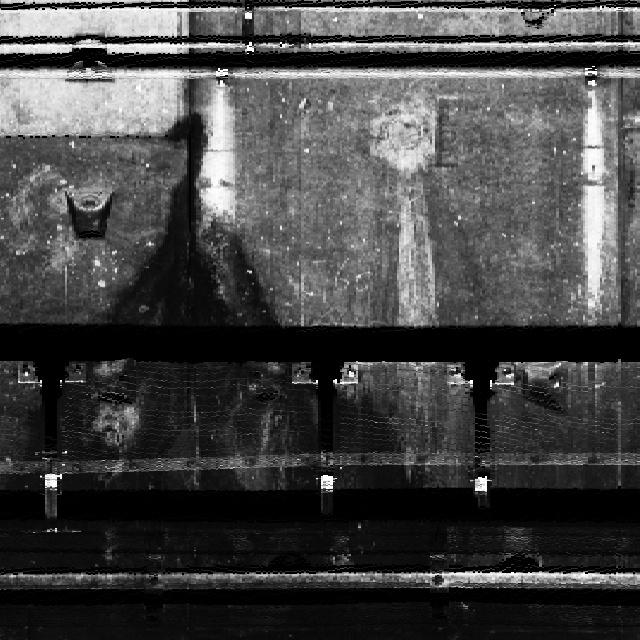leakage: (65, 110, 408, 492)
